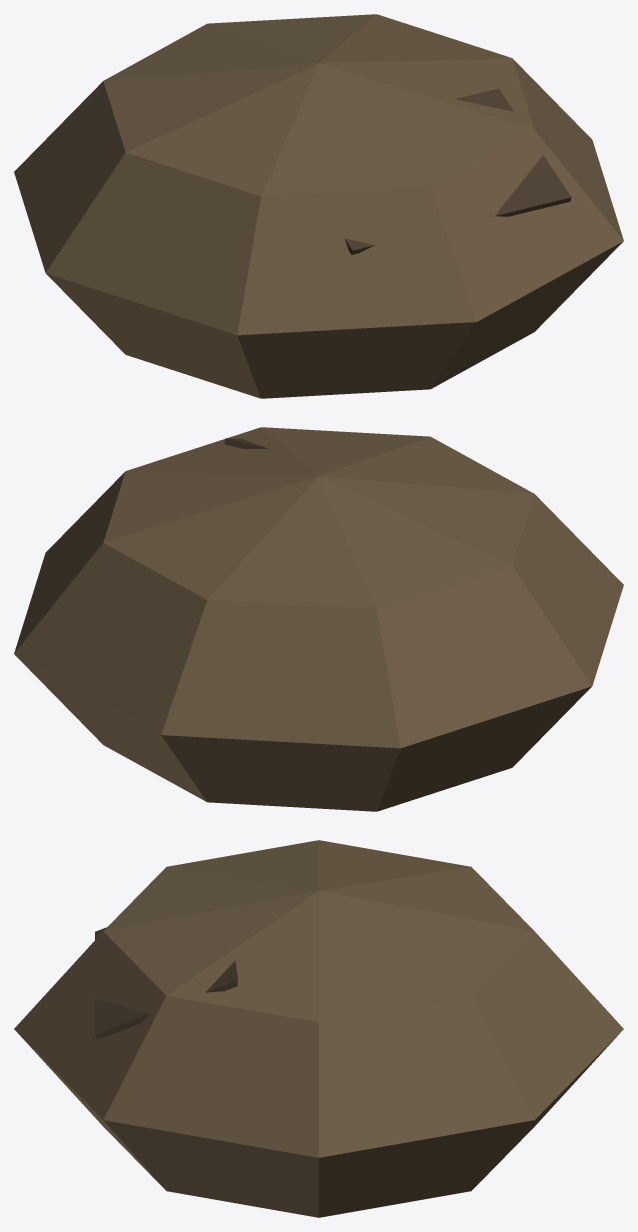
The model's file is s3_unmarked_mound.glb.
The picture shows the model from 3 angles, top to bottom: view 1: azimuth 30°, elevation 25°; view 2: azimuth 150°, elevation 25°; view 3: azimuth 270°, elevation 25°; orthographic projection. The views are drawn at different scales.
Visible parts, largest first — view 1: s3_unmarked_mound; view 2: s3_unmarked_mound; view 3: s3_unmarked_mound.
Part boxes in pixels (bbox=[...]): s3_unmarked_mound: bbox=[14, 14, 623, 398]; s3_unmarked_mound: bbox=[14, 427, 623, 811]; s3_unmarked_mound: bbox=[14, 840, 623, 1217].
Bounding box in the file's own units: 2 × 1 × 2.
